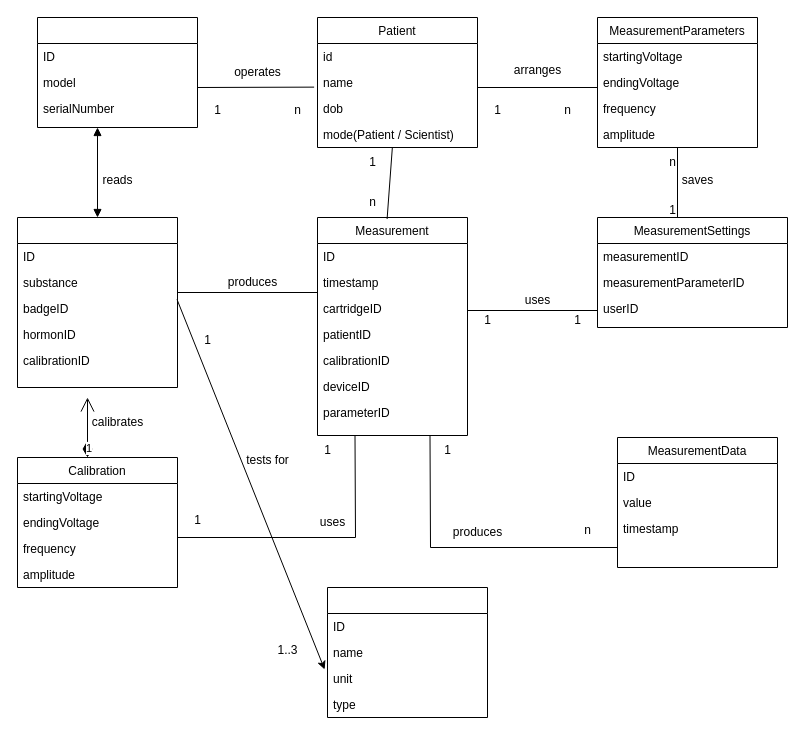
Some shapes in this 805 by 738 pixel diagram are drawn without their labels. The box of each missing label's shape, as (x1, y1, x2, y2) in pixels:
Cartridge: (16, 216, 178, 388)
Hormon: (326, 586, 488, 718)
MeasurementDevice: (36, 16, 198, 128)
